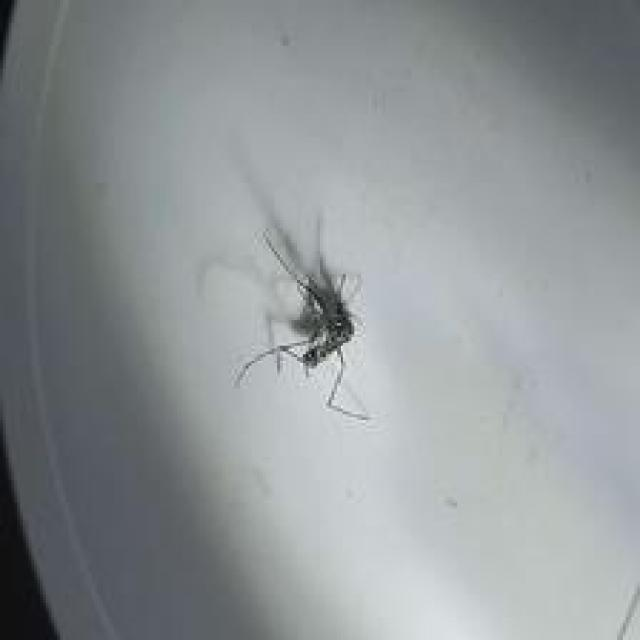Aedes albopictus: (230, 214, 373, 423)
